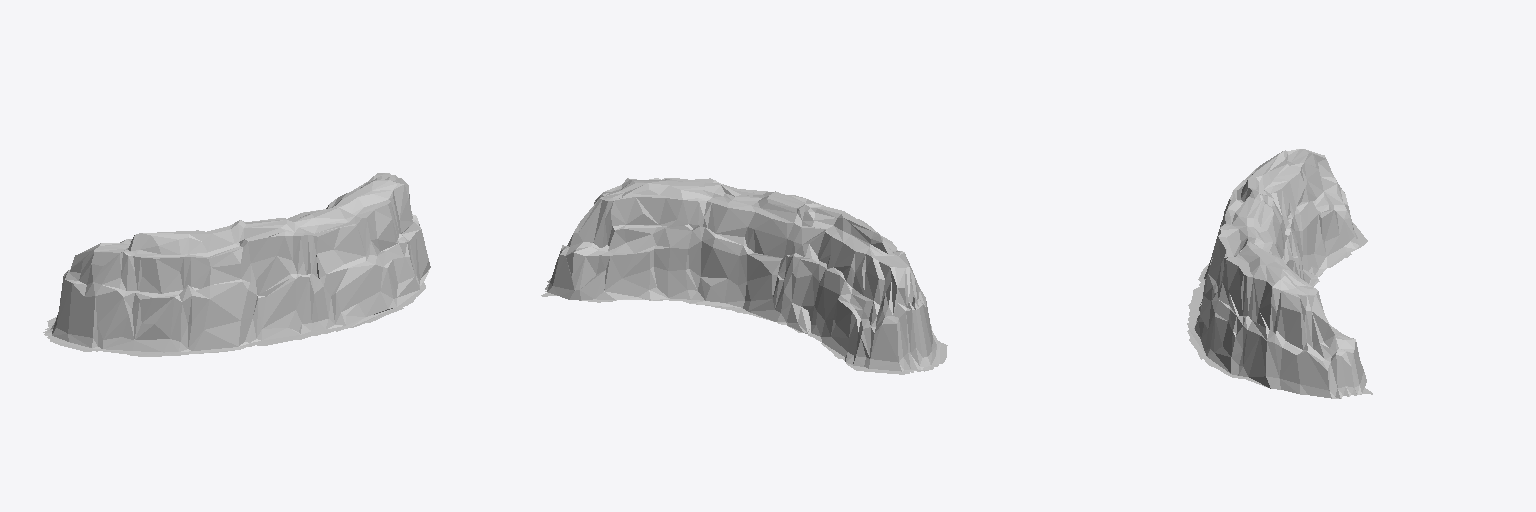
Rendered from Montaña2.obj.
3 renders of one model, left to right at view 1: azimuth 30°, elevation 25°; view 2: azimuth 150°, elevation 25°; view 3: azimuth 270°, elevation 25°, orthographic.
Parts seen in each view (by area): view 1: Mountain4; view 2: Mountain4; view 3: Mountain4.
Boxes of the visible parts, x1,y1,x2,y2 form: Mountain4: [43, 173, 430, 356]; Mountain4: [541, 178, 947, 374]; Mountain4: [1187, 149, 1372, 398].
Size of the model in its own units: 28.95 by 7.31 by 12.24.